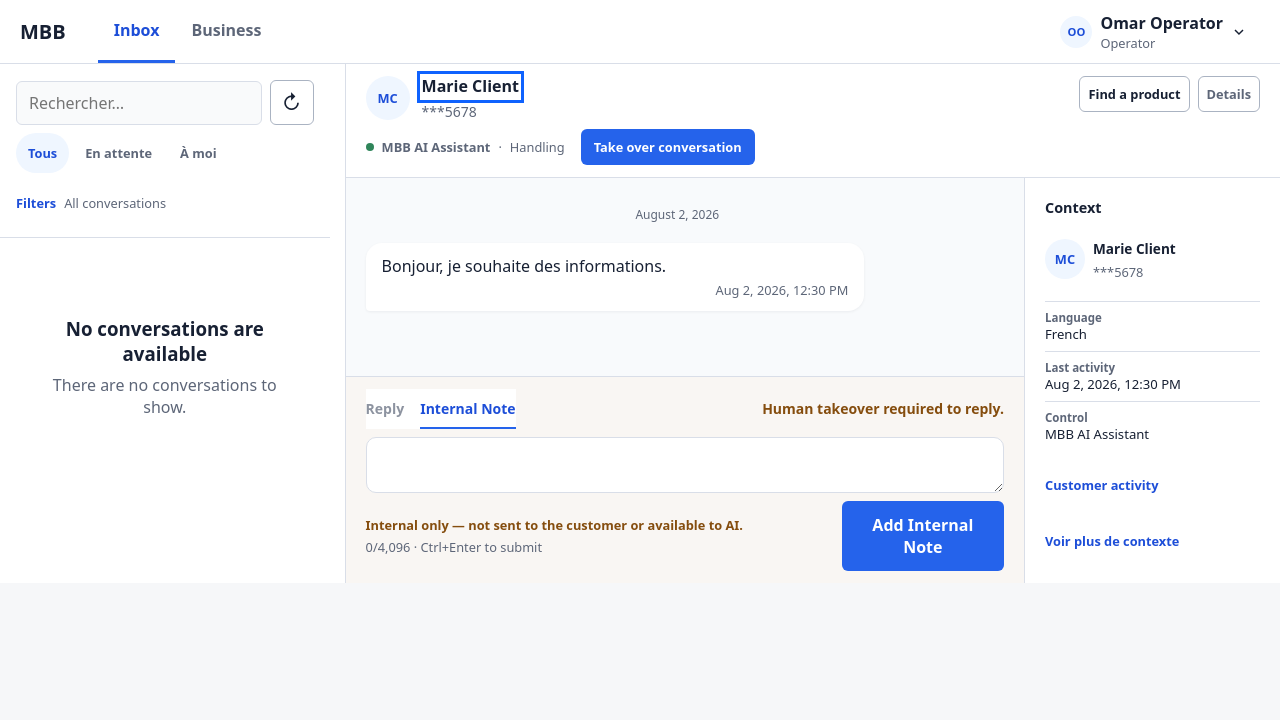
it: read-only conversation workspace › keeps the conversation usable when customer activity fails and retries
The width and height of the screenshot is (1280, 720).
Click the heading "Customer activity" at (1102, 485), box [1045,476,1158,494]
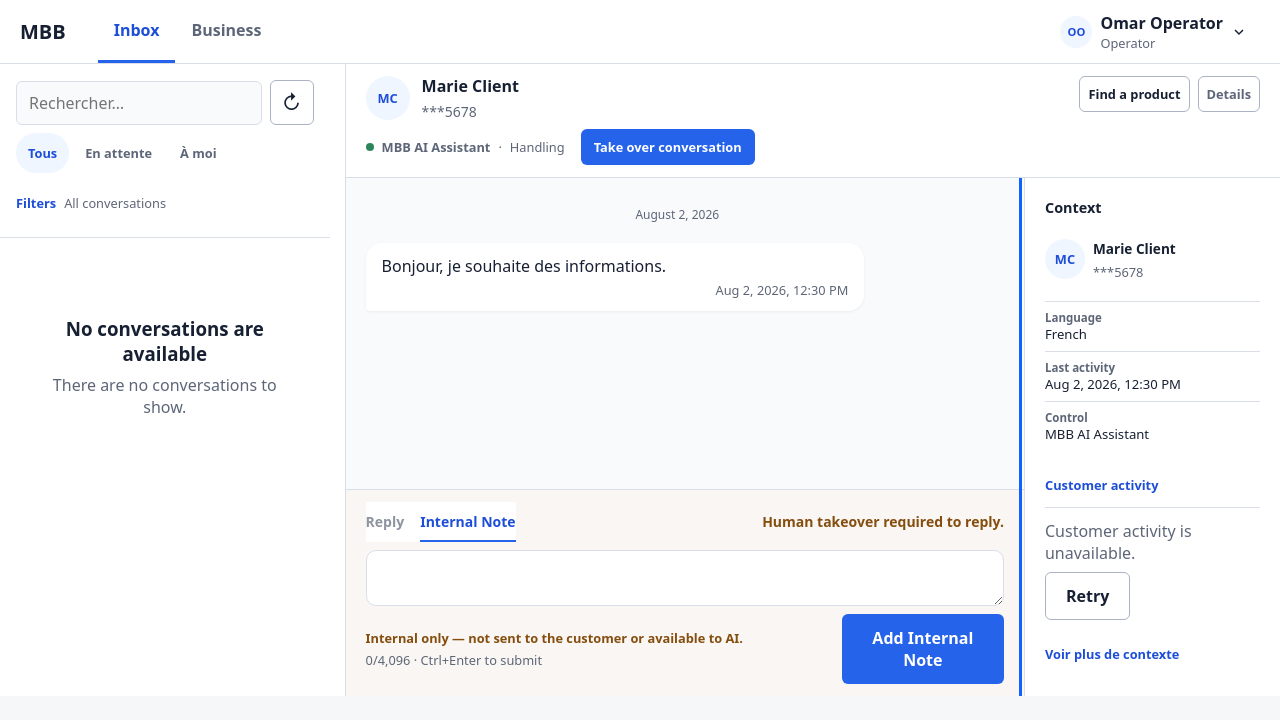
Expected: the text "Bonjour, je souhaite des informations." is shown, [382,255,666,277]
Result: the text "Customer activity is unavailable." is shown at [1045,520,1192,564]
Click the button "Retry" at (1088, 596), box [1045,572,1130,620]
(page scrolled)
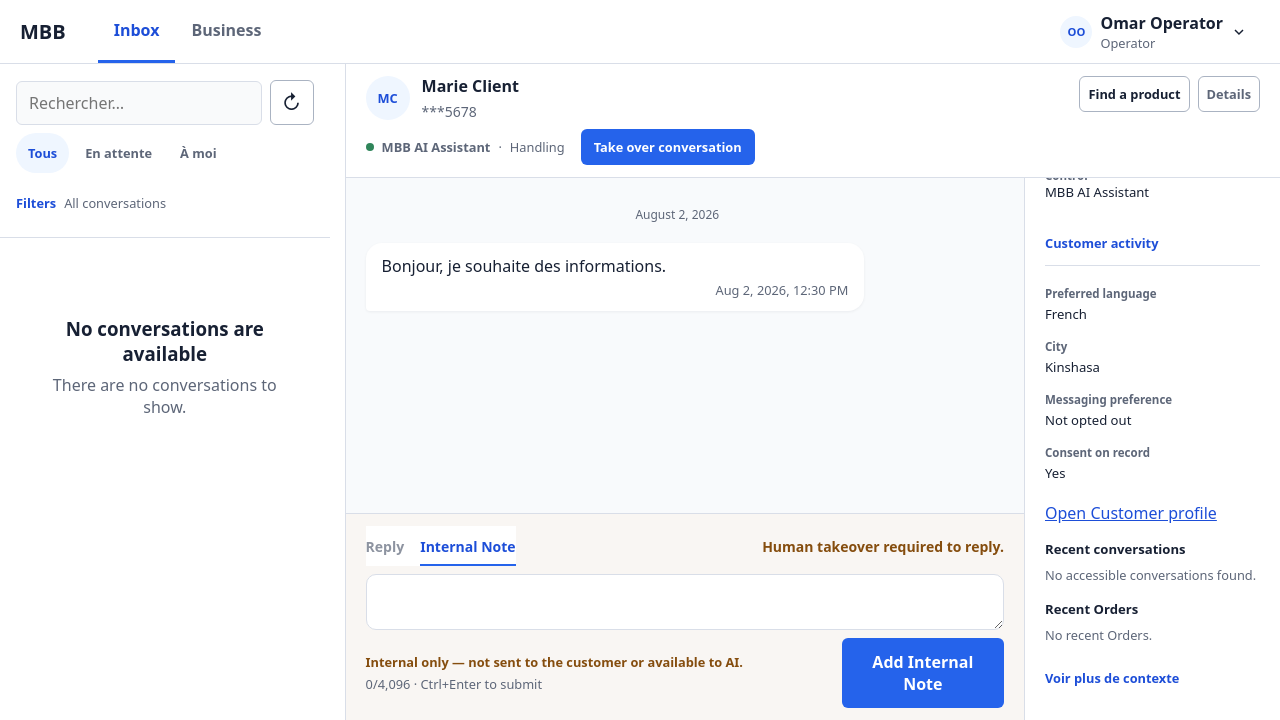
Result: the text "No recent Orders." is shown at [1045,626,1152,644]
